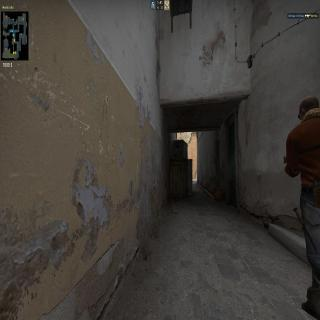T-Head: (295, 92, 320, 121)
